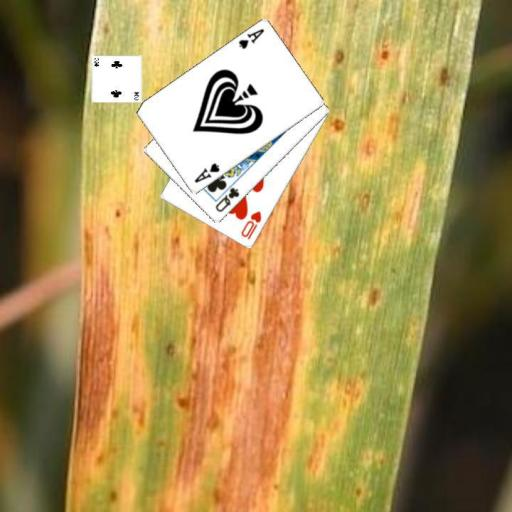10H: (238, 208, 263, 241)
AS: (235, 26, 266, 51), (191, 160, 221, 185)
QC: (212, 184, 241, 214)
